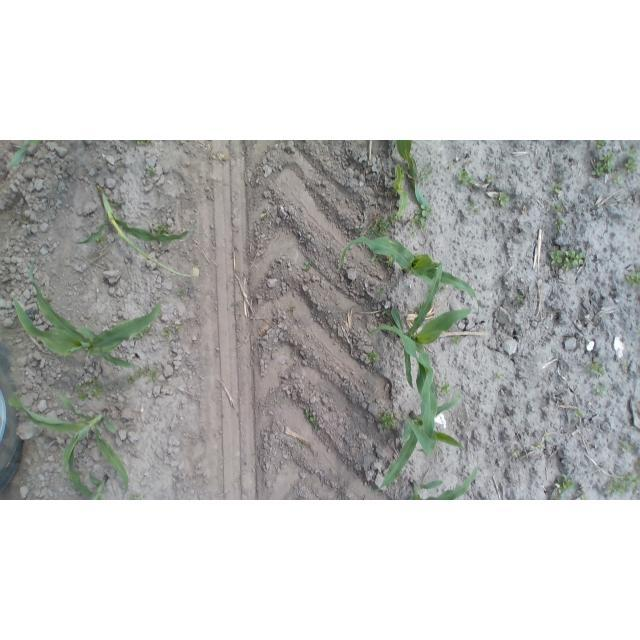Maize: (367, 259, 475, 493), (10, 254, 163, 371), (73, 178, 202, 280), (7, 389, 129, 496), (335, 230, 476, 299), (372, 322, 469, 396), (400, 464, 484, 501), (395, 141, 432, 212), (68, 449, 112, 500), (3, 141, 43, 172), (391, 163, 409, 220)
Weeds: (548, 246, 587, 273), (591, 151, 618, 179), (75, 375, 104, 401), (606, 473, 638, 496), (412, 203, 433, 231), (554, 474, 575, 498), (378, 410, 399, 432), (132, 365, 160, 381), (624, 147, 638, 177), (457, 168, 476, 189), (372, 216, 393, 235), (303, 407, 320, 430), (586, 359, 606, 378), (617, 439, 640, 454), (624, 269, 639, 290), (494, 191, 510, 209), (437, 380, 452, 398), (160, 326, 179, 339), (419, 167, 434, 182), (592, 382, 608, 396), (509, 446, 523, 461), (175, 287, 191, 300), (612, 170, 625, 186), (154, 223, 170, 236), (450, 333, 465, 346), (166, 324, 182, 336), (365, 351, 379, 364), (301, 259, 315, 272), (551, 181, 564, 194), (381, 255, 395, 267), (493, 370, 506, 382), (145, 166, 157, 179), (554, 216, 563, 232), (572, 408, 584, 420), (553, 200, 564, 213), (126, 374, 137, 387), (287, 302, 298, 315), (273, 394, 284, 407), (126, 493, 146, 500), (517, 293, 528, 305), (620, 360, 631, 372), (294, 440, 306, 451), (543, 432, 554, 444), (132, 140, 154, 146), (470, 200, 480, 213), (231, 299, 242, 310), (440, 282, 451, 293), (595, 140, 607, 150), (485, 173, 495, 184), (375, 285, 385, 296), (95, 234, 105, 245), (532, 443, 544, 452), (259, 210, 268, 222), (192, 266, 201, 278), (407, 229, 417, 239), (446, 161, 455, 171), (576, 493, 587, 500), (144, 327, 152, 336), (132, 335, 140, 342)
